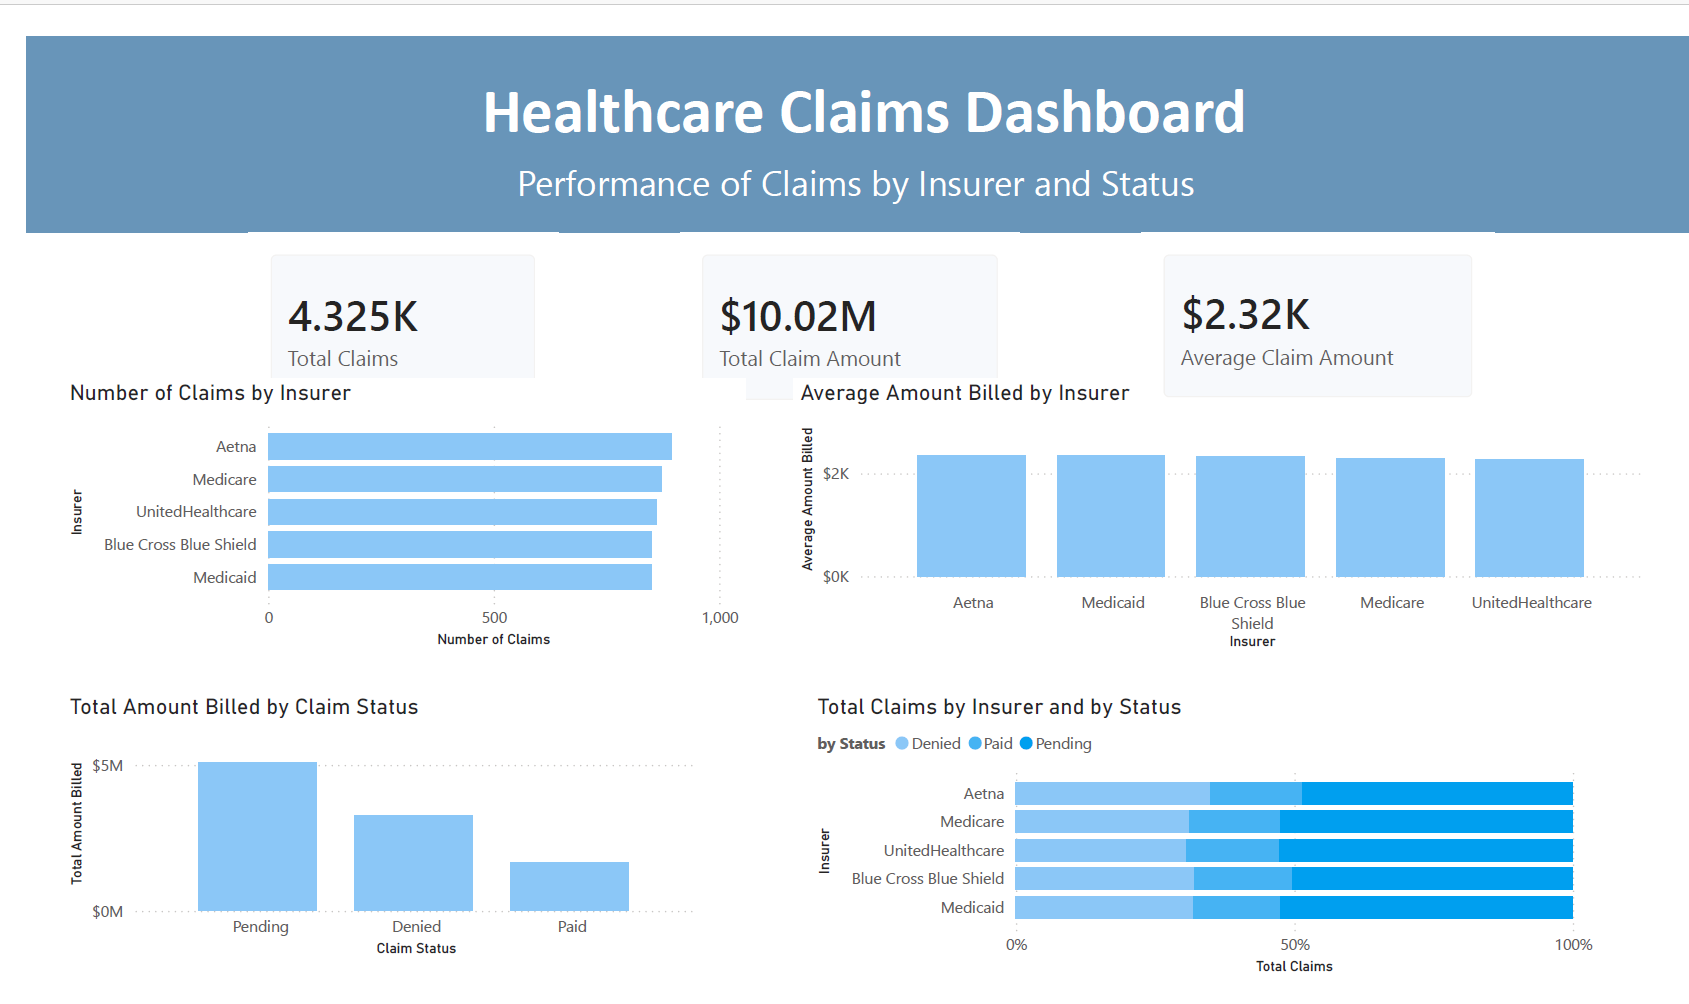

The page's visual inventory and layout, read from the dashboard file:
{"tool":"powerbi","page":{"name":"Claims Overview","canvas":[1280,720],"ordinal":0},"visuals":[{"type":"shape","box":[0,0,1280,150],"z":1000},{"type":"cardVisual","fields":{"Data":["CountNonNull(Claims.Claim_Number)"]},"box":[170,150,236.7,145],"z":2000},{"type":"cardVisual","fields":{"Data":["Sum(Claims.Amount_Billed)"]},"box":[500,150,260,145],"z":3000},{"type":"barChart","fields":{"Y":["CountNonNull(Claims.Claim_Number)"],"Category":["Claims.Insurer"]},"box":[28.3,261.7,521.7,210],"z":4000},{"type":"clusteredColumnChart","fields":{"Y":["Avg(Claims.Amount_Billed)"],"Category":["Claims.Insurer"]},"box":[586.7,261.7,655,211.7],"z":5000},{"type":"columnChart","fields":{"Category":["Claims.Claim_Status"],"Y":["Sum(Claims.Amount_Billed)"]},"box":[28.3,501.7,490,206.7],"z":6000},{"type":"hundredPercentStackedBarChart","fields":{"Category":["Claims.Insurer"],"Series":["Claims.Claim_Status"],"Y":["CountNonNull(Claims.Claim_Number)"]},"box":[600,501.7,603.3,220],"z":7000},{"type":"textbox","box":[370,88.3,605,73.3],"z":8000},{"type":"cardVisual","fields":{"Data":["Avg(Claims.Amount_Billed)"]},"box":[853.3,150,270,143.3],"z":9000},{"type":"textbox","box":[256.7,21.7,768.3,90],"z":10000}]}

Visuals, with their boxes on the page's 1280x720 design canvas (x1, y1, x2, y2). These are canvas units, not pixel positions in the 1689x1004 screenshot, which may show the page scaled, cropped or inside an application window:
shape: {"x1": 0, "y1": 0, "x2": 1280, "y2": 150}
cardVisual - CountNonNull(Claims.Claim_Number): {"x1": 170, "y1": 150, "x2": 407, "y2": 295}
cardVisual - Sum(Claims.Amount_Billed): {"x1": 500, "y1": 150, "x2": 760, "y2": 295}
barChart - CountNonNull(Claims.Claim_Number) x Claims.Insurer: {"x1": 28, "y1": 262, "x2": 550, "y2": 472}
clusteredColumnChart - Avg(Claims.Amount_Billed) x Claims.Insurer: {"x1": 587, "y1": 262, "x2": 1242, "y2": 473}
columnChart - Claims.Claim_Status x Sum(Claims.Amount_Billed): {"x1": 28, "y1": 502, "x2": 518, "y2": 708}
hundredPercentStackedBarChart - Claims.Insurer x Claims.Claim_Status: {"x1": 600, "y1": 502, "x2": 1203, "y2": 722}
textbox: {"x1": 370, "y1": 88, "x2": 975, "y2": 162}
cardVisual - Avg(Claims.Amount_Billed): {"x1": 853, "y1": 150, "x2": 1123, "y2": 293}
textbox: {"x1": 257, "y1": 22, "x2": 1025, "y2": 112}
